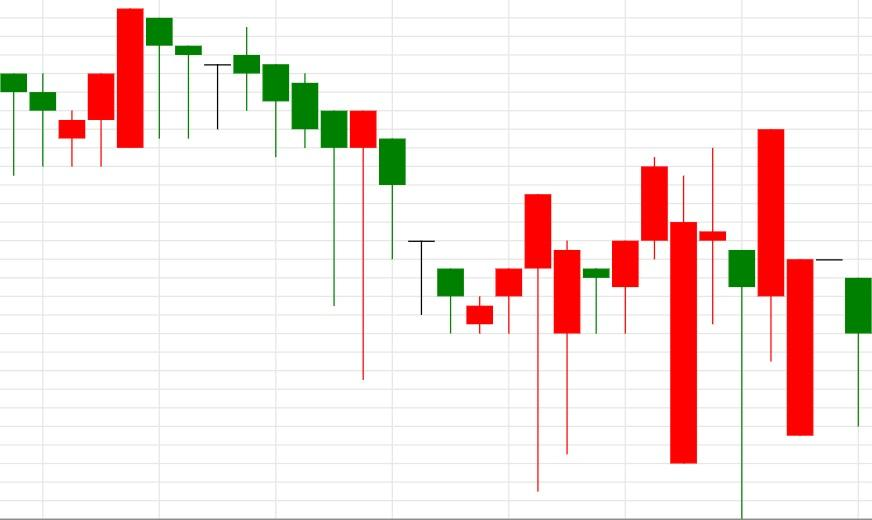hanging_man_fall: (57, 8, 173, 167)
three_white_soldiers_rise: (117, 7, 553, 492)
